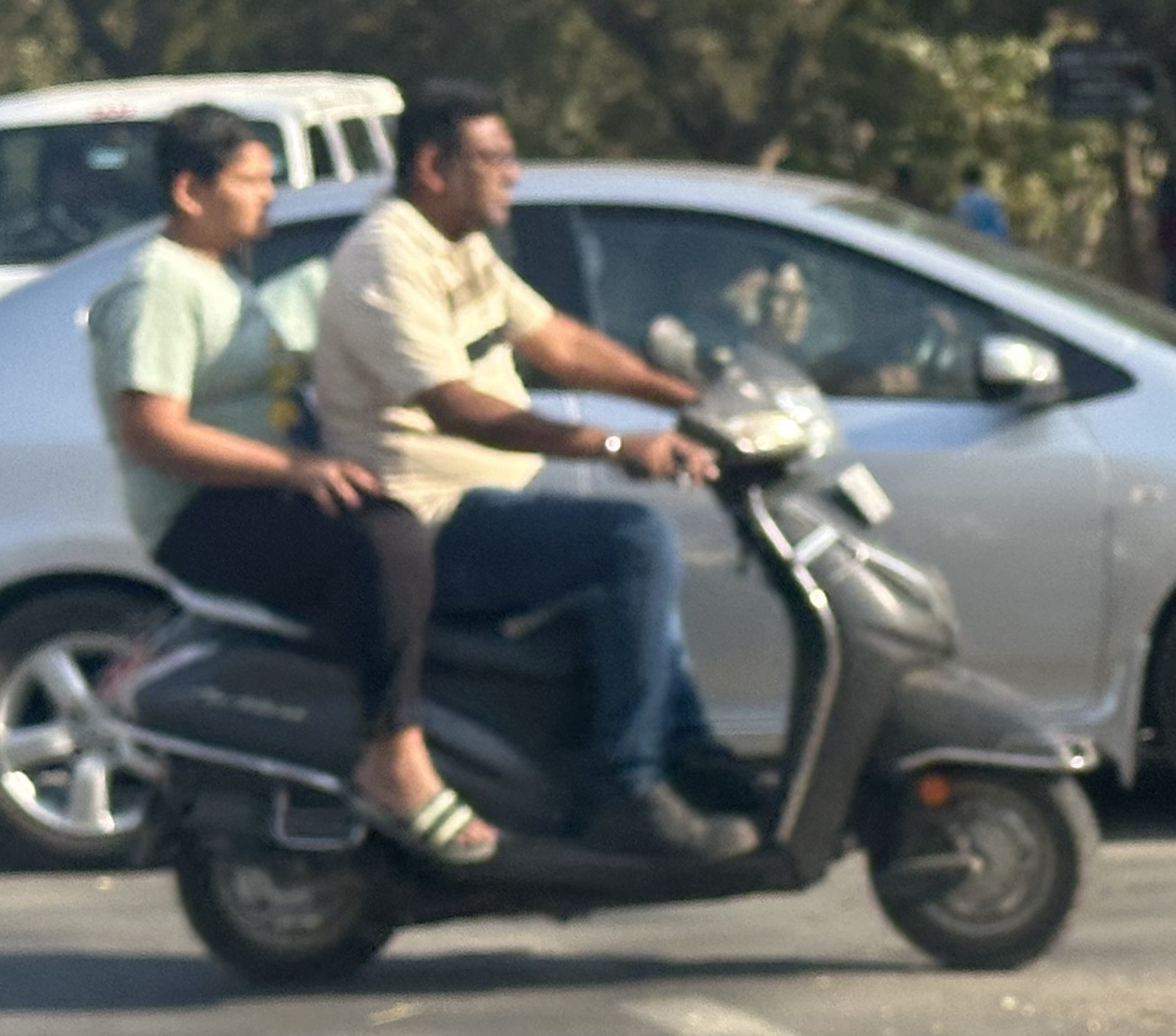BikeWithRider: (70, 65, 1131, 1006)
NoHelmet: (370, 81, 535, 260), (134, 90, 292, 274)
